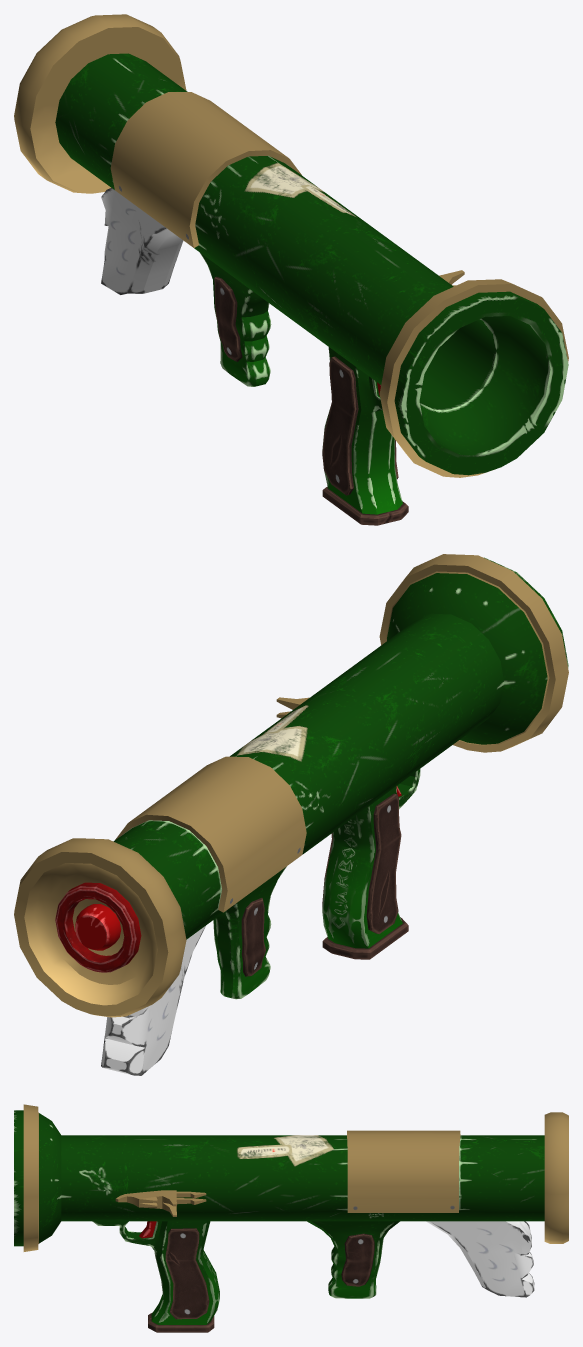
File: Bazuca.fbx
The picture shows the model from 3 angles, top to bottom: view 1: azimuth 30°, elevation 25°; view 2: azimuth 150°, elevation 25°; view 3: azimuth 270°, elevation 25°; orthographic projection. The views are drawn at different scales.
Visible parts, largest first — view 1: Bazuca; view 2: Bazuca; view 3: Bazuca.
Part boxes in pixels (x1=…): Bazuca: x1=14, y1=14, x2=568, y2=525; Bazuca: x1=14, y1=554, x2=568, y2=1075; Bazuca: x1=14, y1=1104, x2=568, y2=1332.
Bounding box in the file's own units: 78.12 × 123 × 290.
